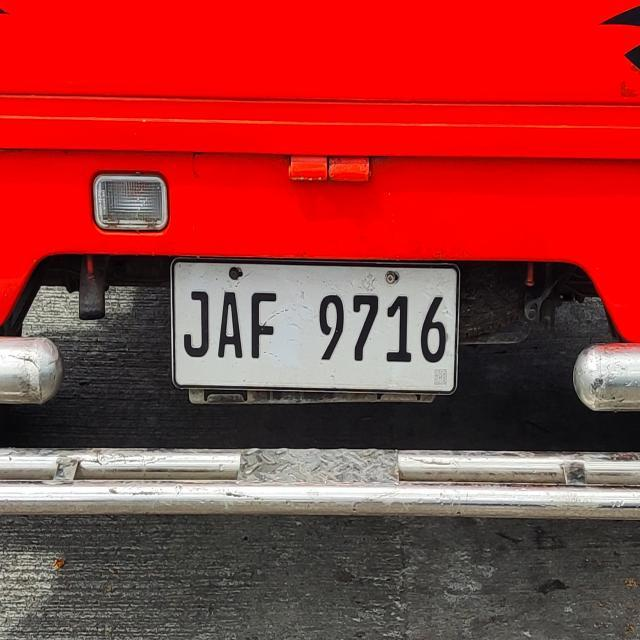LicensePlate: (158, 248, 479, 403)
